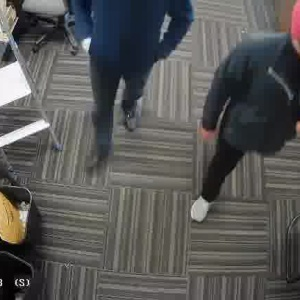person: (197, 21, 300, 221), (75, 0, 181, 176)
